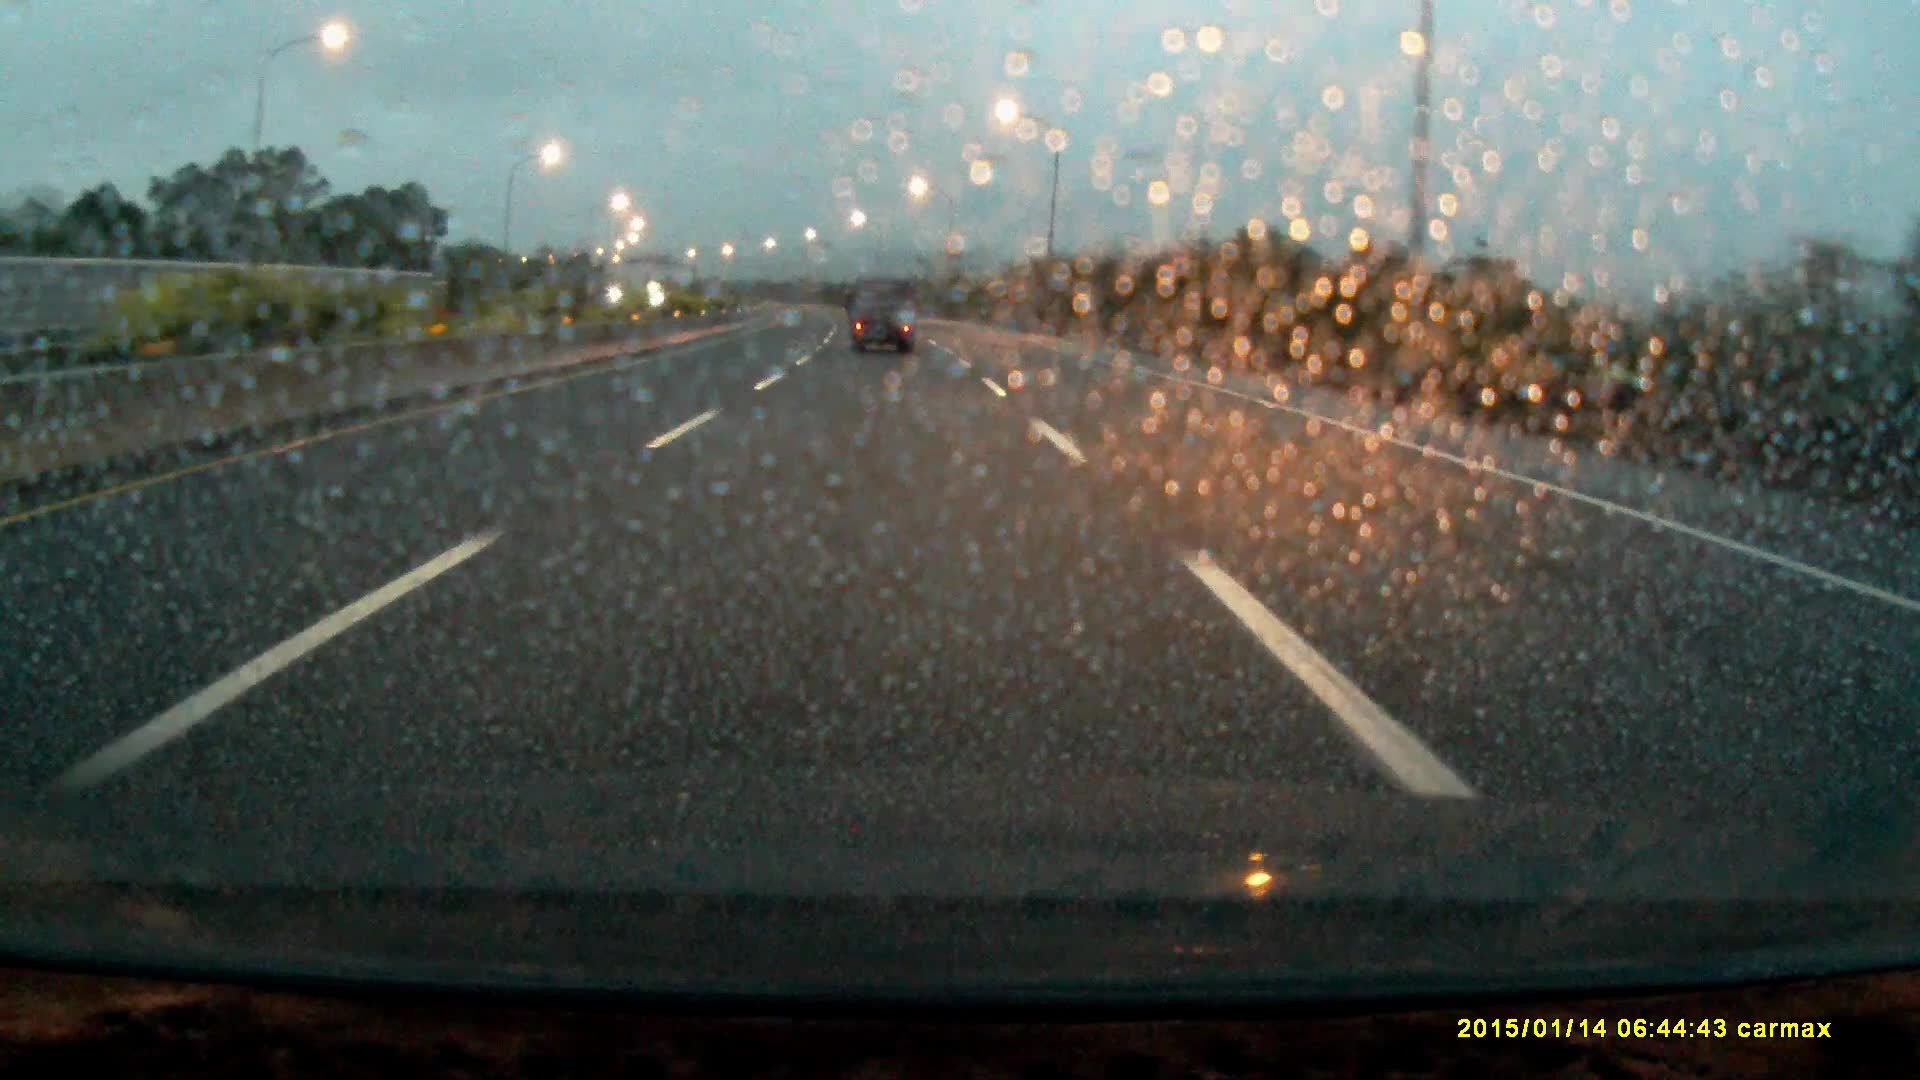vehicle: (851, 276, 918, 355)
